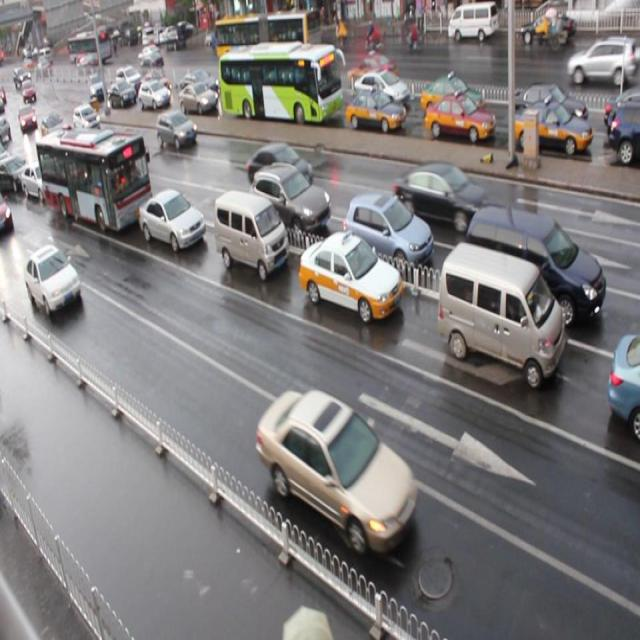car: (255, 385, 418, 552), (299, 228, 402, 322), (343, 194, 433, 278), (396, 160, 492, 235), (252, 163, 331, 234), (513, 99, 593, 158), (138, 187, 206, 252), (24, 242, 81, 316), (249, 142, 317, 198), (425, 91, 496, 142), (608, 331, 640, 436), (506, 84, 581, 128), (421, 76, 487, 120), (345, 86, 405, 133), (351, 68, 407, 109), (608, 98, 640, 160), (598, 92, 640, 136), (21, 158, 60, 203), (156, 111, 198, 151), (179, 83, 219, 115), (1, 153, 32, 192), (240, 69, 275, 103), (185, 69, 222, 97), (140, 80, 172, 112), (50, 128, 78, 162), (74, 105, 101, 134), (117, 65, 143, 94), (110, 81, 136, 109), (141, 68, 168, 94), (42, 114, 67, 138)
truck: (437, 240, 565, 388), (466, 200, 606, 331), (212, 187, 288, 280)
van: (36, 126, 154, 235), (216, 42, 340, 124)
